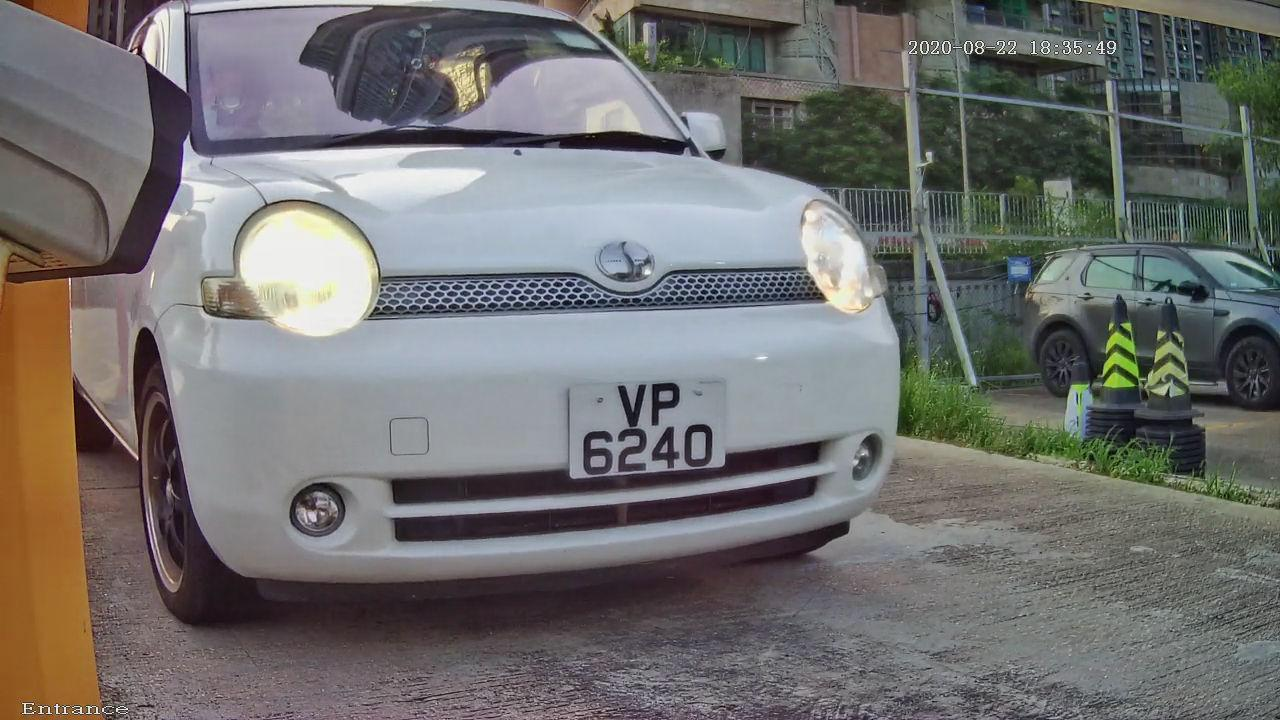Car: (6, 1, 1001, 650)
License Plate: (549, 364, 743, 496)
